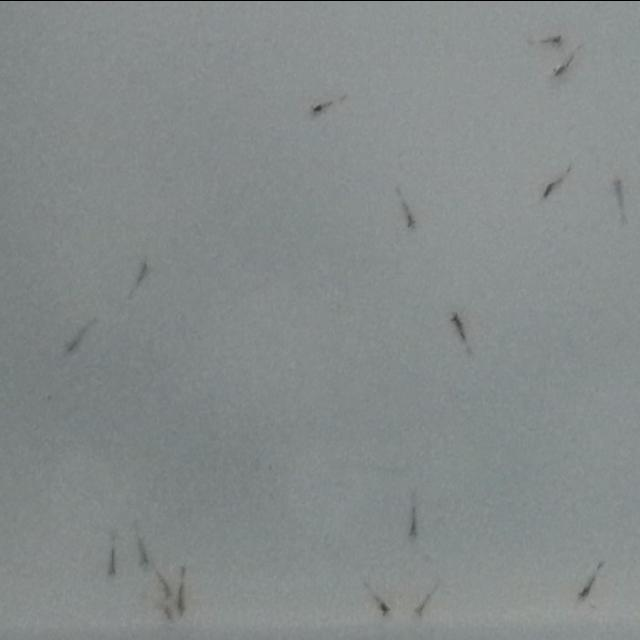shrimp-seed: (129, 536, 153, 570), (131, 256, 152, 290), (408, 592, 432, 620), (62, 328, 84, 358), (576, 574, 596, 606), (540, 175, 564, 201), (551, 56, 573, 83), (103, 544, 121, 576), (403, 508, 421, 540), (447, 310, 465, 340), (610, 175, 628, 205), (401, 206, 420, 232), (542, 30, 566, 50), (175, 589, 189, 619), (310, 95, 330, 116), (157, 570, 170, 598), (157, 606, 175, 626), (375, 596, 391, 618)
